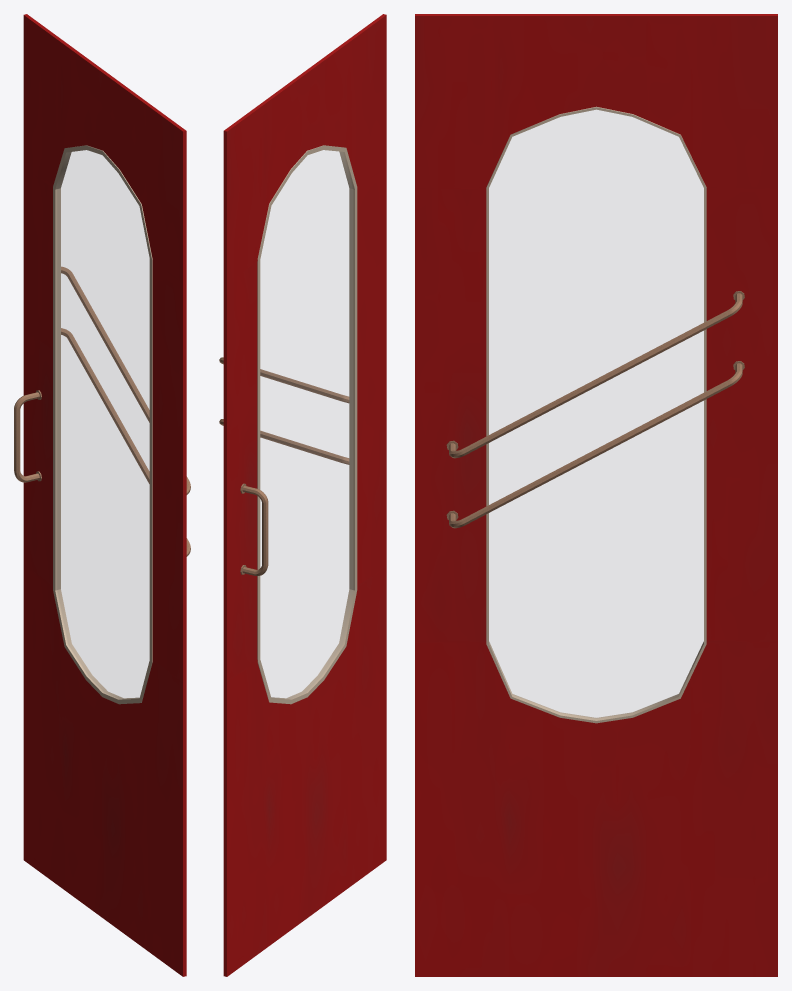
Rendered from door.fbx.
The picture shows the model from 3 angles, left to right: view 1: azimuth 30°, elevation 25°; view 2: azimuth 150°, elevation 25°; view 3: azimuth 270°, elevation 25°; orthographic projection. The views are drawn at different scales.
Parts seen in each view (by area): view 1: Box004, Box236, Object001, Object004; view 2: Box004, Box236, Object001, Object004; view 3: Box004, Box236, Object004, Object001.
Boxes of the visible parts, x1=… form: Box004: x1=23, y1=14, x2=186, y2=976; Box236: x1=57, y1=150, x2=148, y2=698; Object001: x1=53, y1=145, x2=152, y2=704; Object004: x1=14, y1=266, x2=190, y2=556; Box004: x1=223, y1=14, x2=386, y2=976; Box236: x1=261, y1=150, x2=352, y2=698; Object001: x1=257, y1=145, x2=357, y2=704; Object004: x1=219, y1=357, x2=349, y2=575; Box004: x1=415, y1=14, x2=777, y2=976; Box236: x1=489, y1=110, x2=703, y2=718; Object004: x1=446, y1=291, x2=744, y2=528; Object001: x1=486, y1=106, x2=706, y2=723.
Bounding box in the file's own units: 36.64 × 557 × 191.
